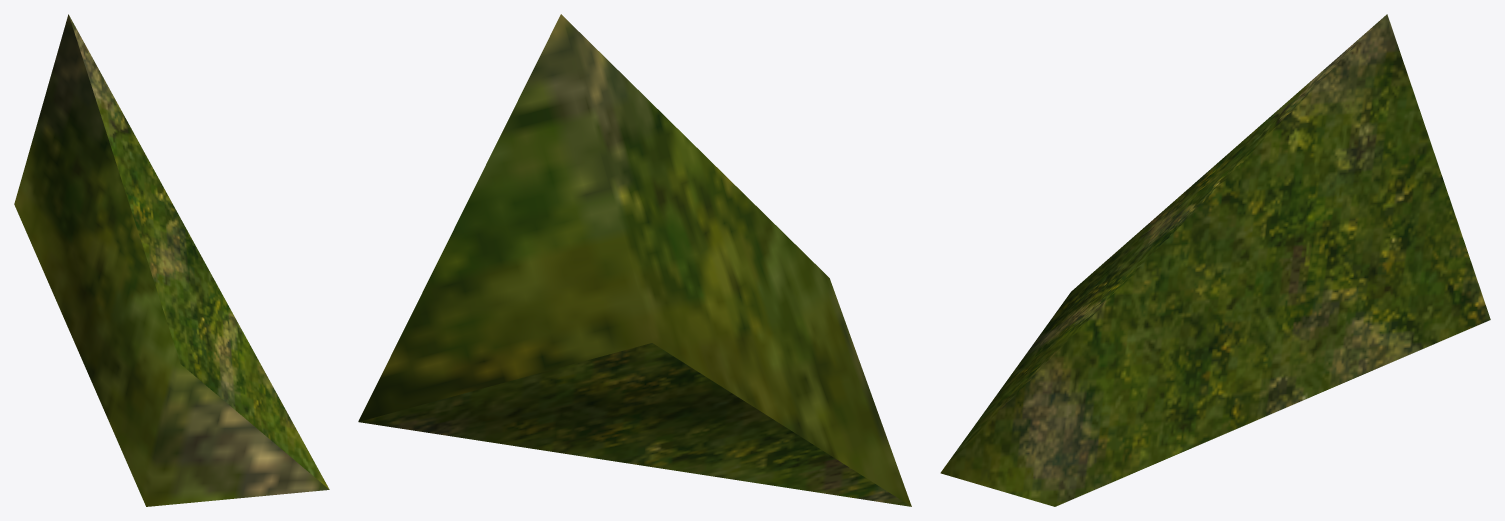
Rendered from OVERHILL_A_01_LINE141.fbx.
The picture shows the model from 3 angles, left to right: view 1: azimuth 30°, elevation 25°; view 2: azimuth 150°, elevation 25°; view 3: azimuth 270°, elevation 25°; orthographic projection. The views are drawn at different scales.
Visible parts, largest first — view 1: OVERHILL_A_01_LINE141; view 2: OVERHILL_A_01_LINE141; view 3: OVERHILL_A_01_LINE141.
Boxes of the visible parts, <box> form: OVERHILL_A_01_LINE141: <box>14,14,329,506</box>; OVERHILL_A_01_LINE141: <box>358,14,911,506</box>; OVERHILL_A_01_LINE141: <box>940,14,1490,506</box>.
Bounding box in the file's own units: 3900 × 9582 × 10749.
1 material, 1 textured.
